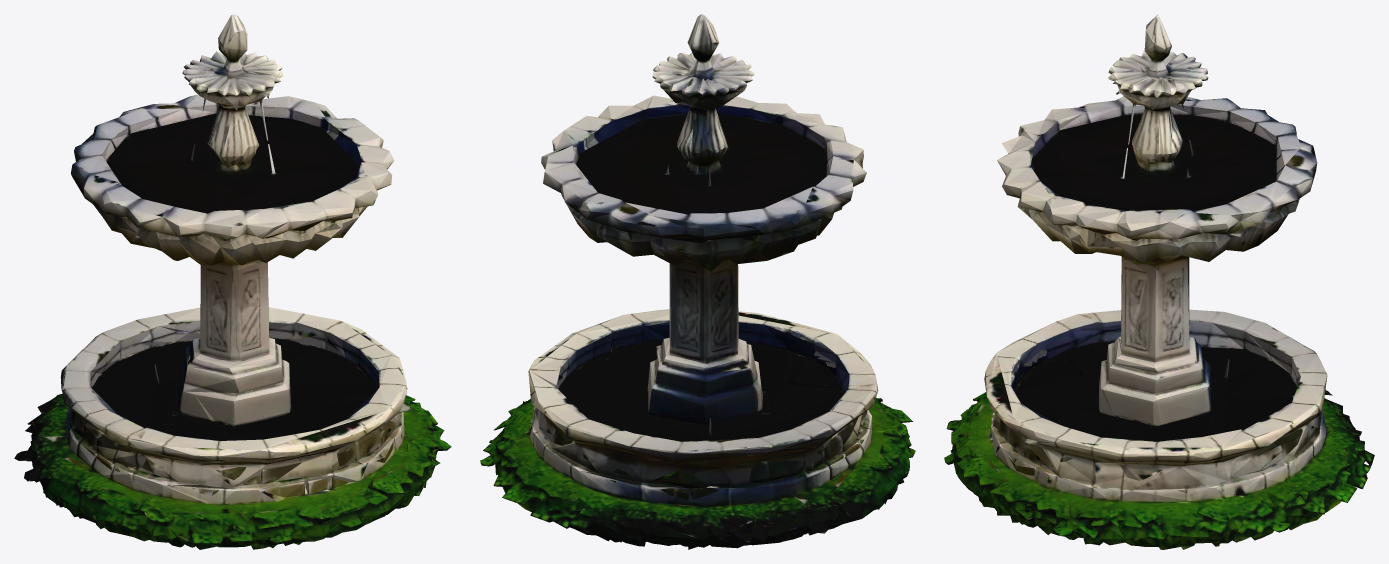
Rendered from landmark_village_fountain.glb.
3 views of the same model, side by side, from view 1: azimuth 30°, elevation 25°; view 2: azimuth 150°, elevation 25°; view 3: azimuth 270°, elevation 25° (orthographic).
Parts seen in each view (by area): view 1: geometry_0; view 2: geometry_0; view 3: geometry_0.
Boxes of the visible parts, x1=… form: geometry_0: x1=14, y1=14, x2=451, y2=549; geometry_0: x1=480, y1=14, x2=915, y2=549; geometry_0: x1=944, y1=14, x2=1374, y2=549.
Size of the model in its own units: 0.8536 by 0.9994 by 0.8653.
1 material, 1 textured.
